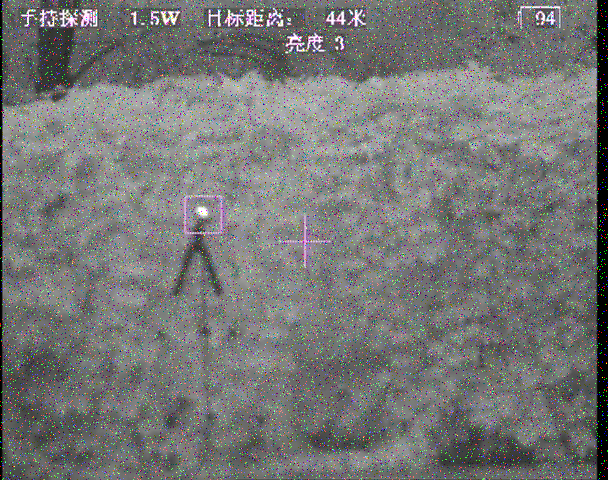my: (196, 205, 210, 218)
